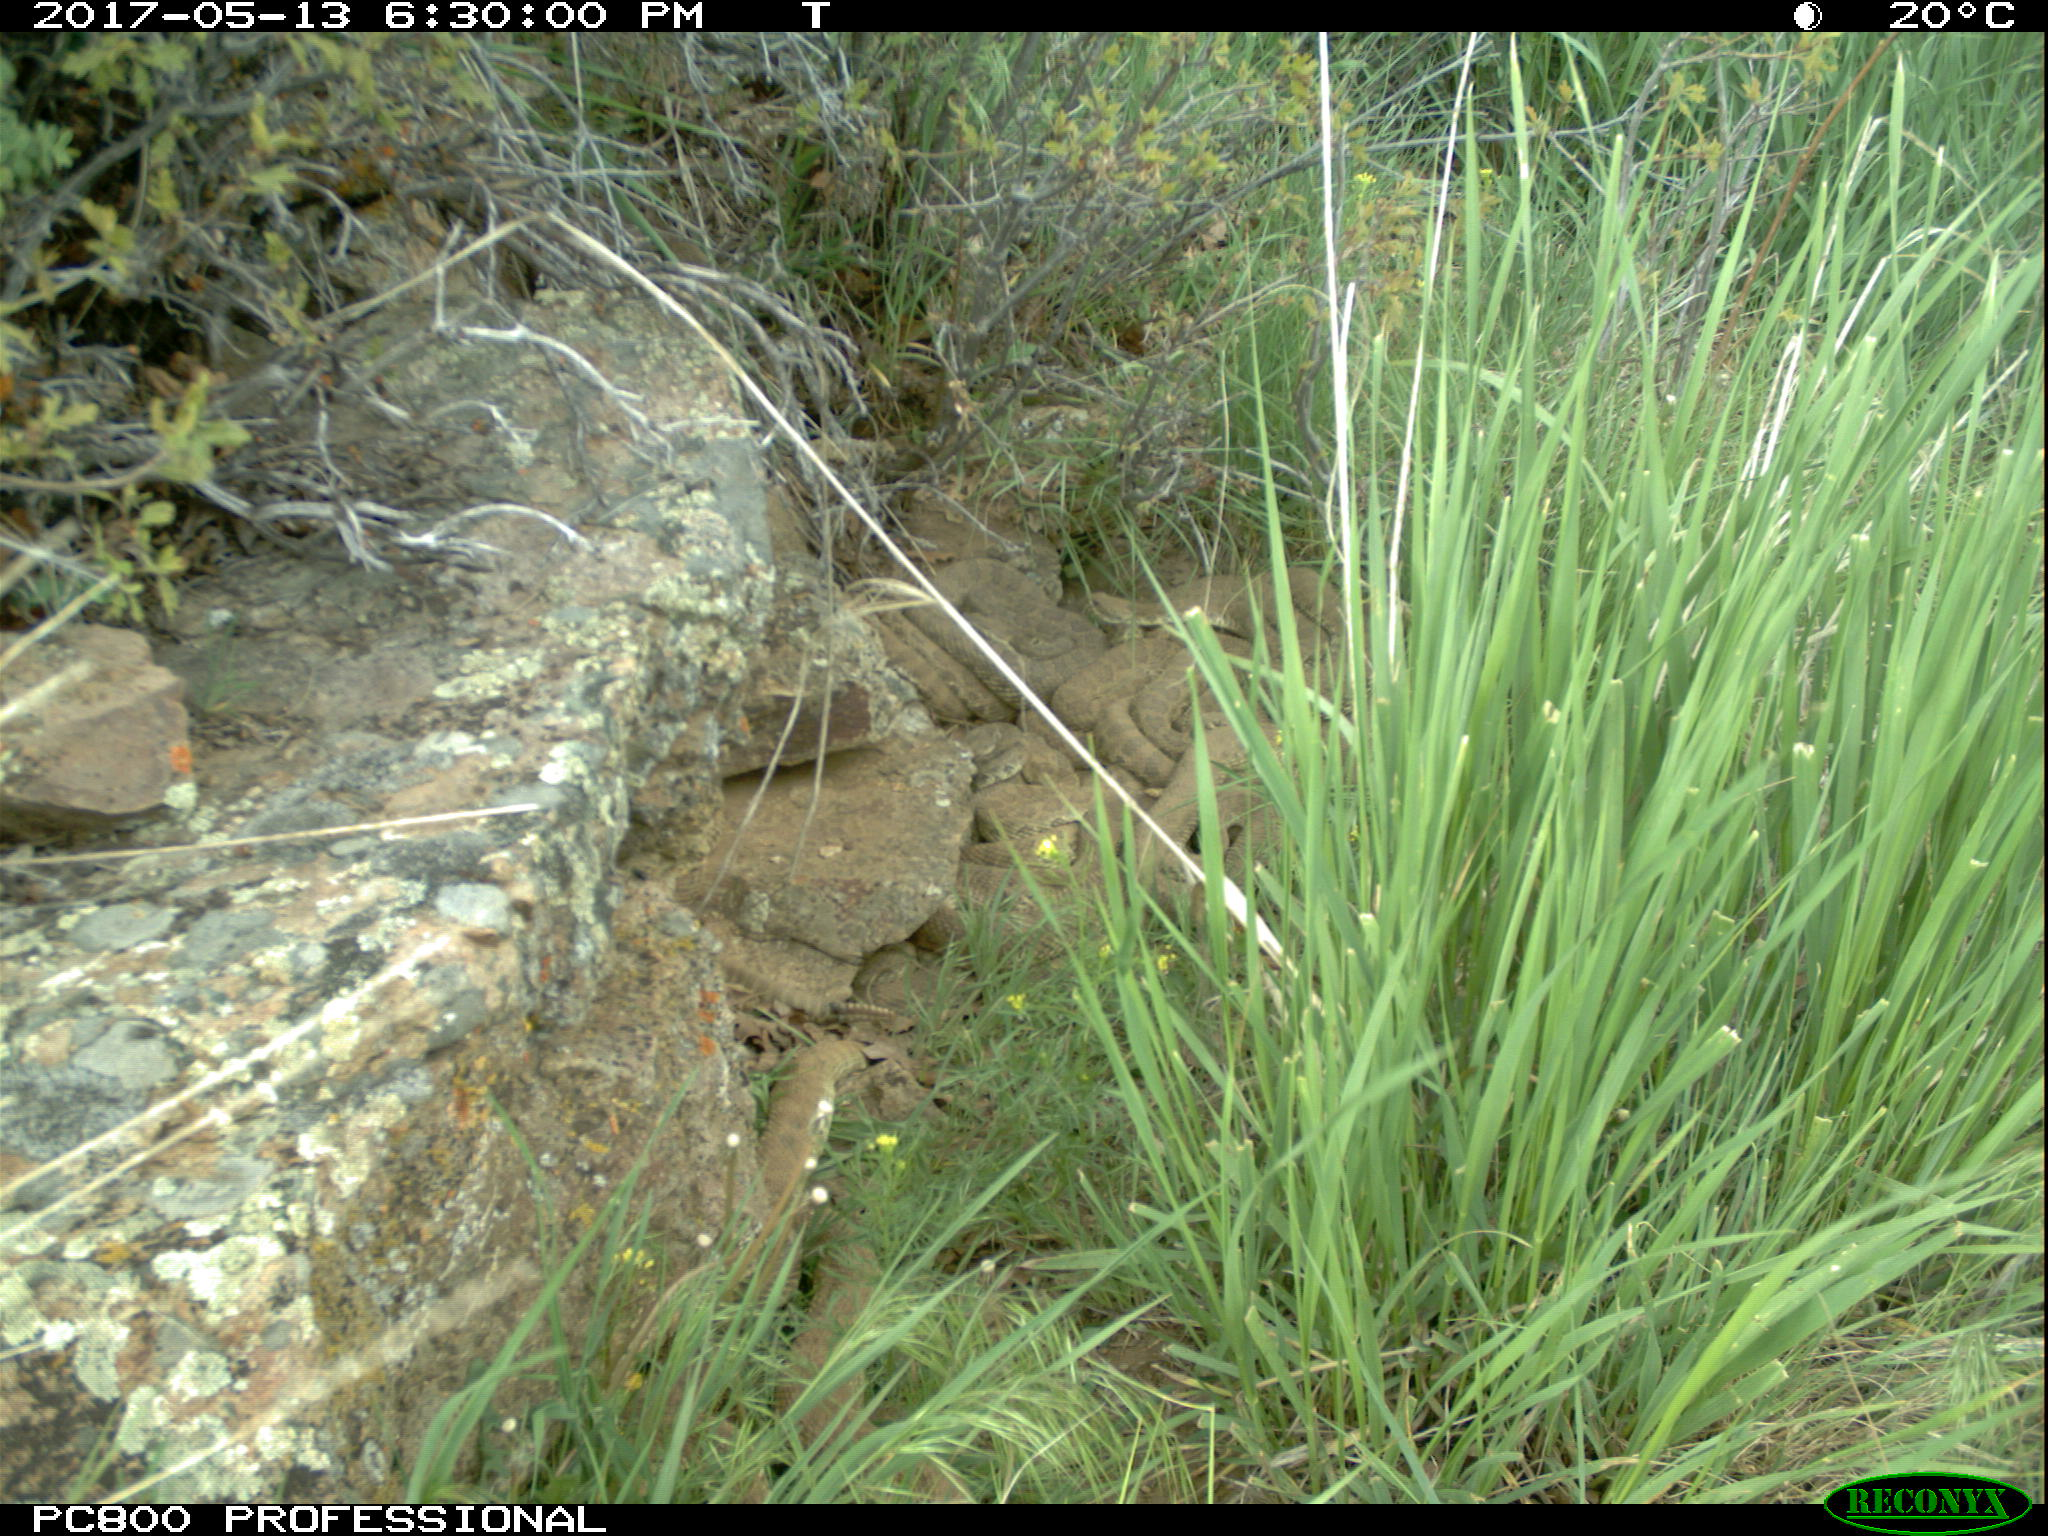snake: (895, 558, 1106, 697), (1080, 560, 1355, 663), (777, 1234, 880, 1476), (1130, 724, 1280, 878), (756, 1034, 863, 1226), (1076, 636, 1213, 784), (795, 937, 932, 1029), (955, 726, 1071, 831)
